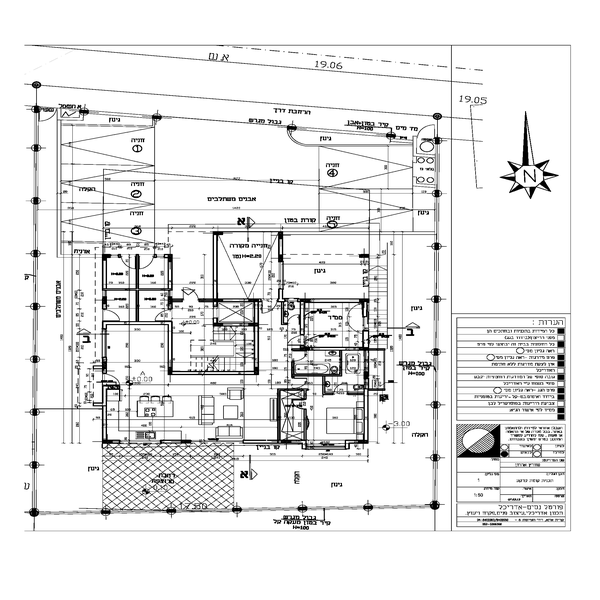room: (156, 369, 286, 446), (97, 321, 167, 441), (282, 295, 370, 385), (167, 292, 259, 376), (273, 384, 374, 448), (95, 247, 176, 326), (204, 226, 287, 302)
